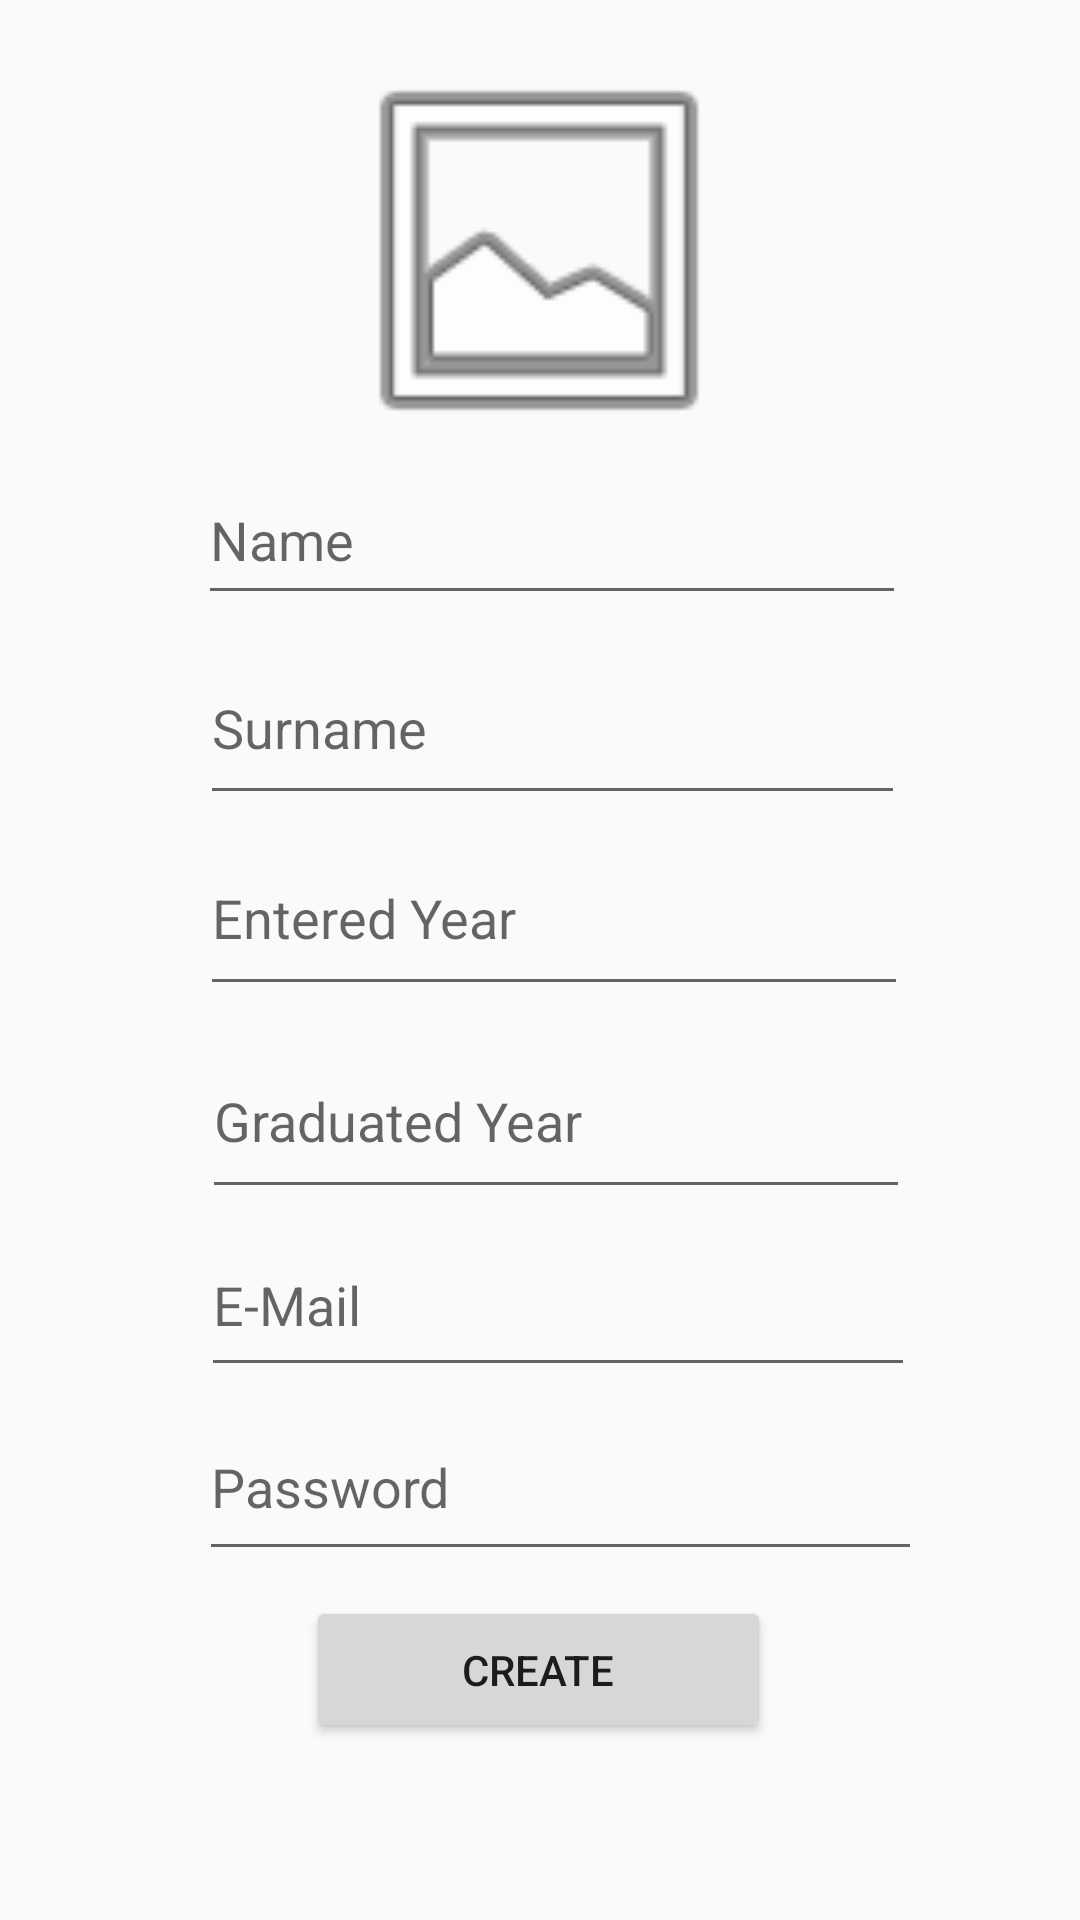

Icons on this 1080*1920 Android screen, each with the point to tap as (x=x, y=y):
gallery: (x=539, y=250)
